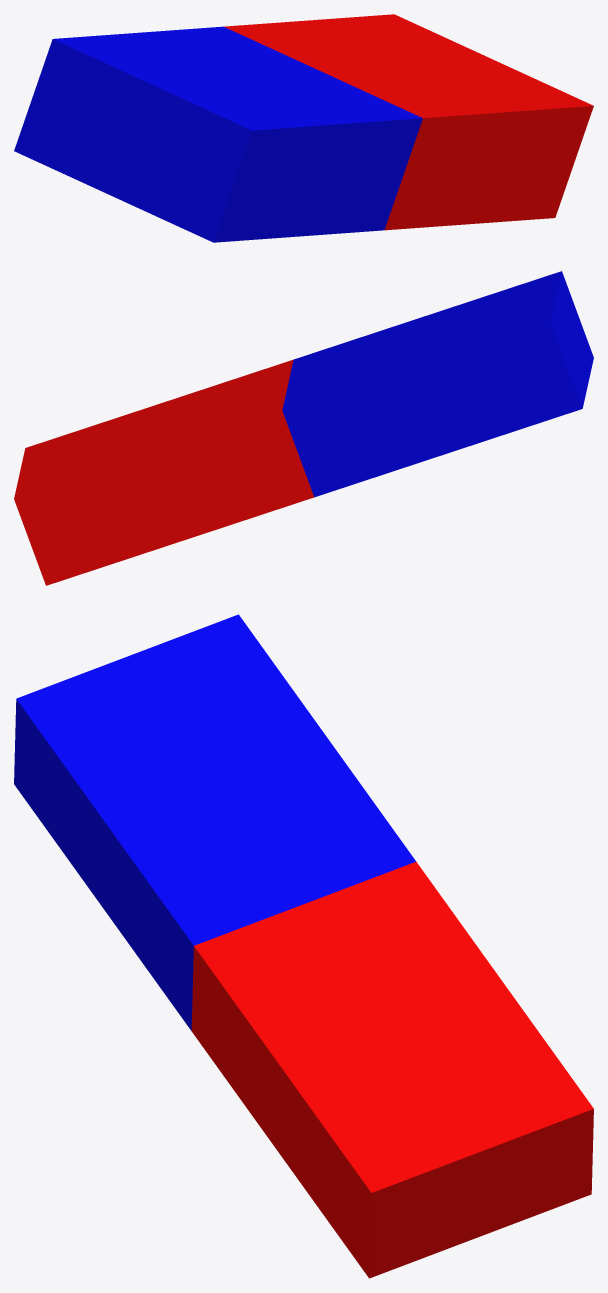
File: YUp.fbx
3 renders of one model, top to bottom at view 1: azimuth 30°, elevation 25°; view 2: azimuth 150°, elevation 25°; view 3: azimuth 270°, elevation 25°, orthographic. The views are drawn at different scales.
Visible parts, largest first — view 1: Box001; view 2: Box001; view 3: Box001.
Boxes of the visible parts, x1,y1,x2,y2 form: Box001: (14,14,593,242); Box001: (14,271,593,585); Box001: (14,614,593,1278).
Bounding box in the file's own units: 61.43 × 33.04 × 46.02.
